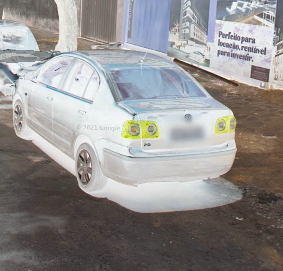car: (11, 44, 241, 196)
